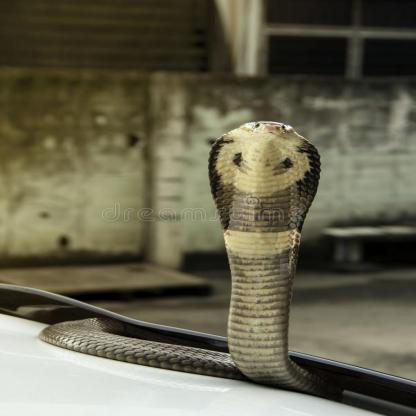Snake: (37, 116, 342, 397)
